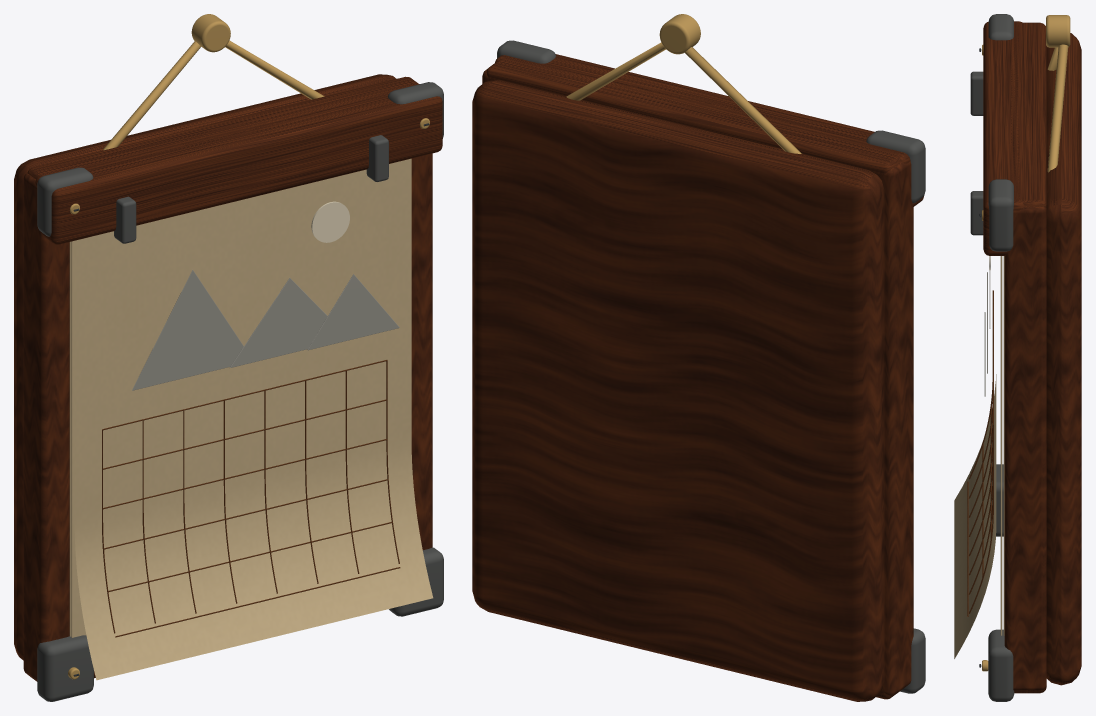
Rendered from aventura_calendario_parede.glb.
The picture shows the model from 3 angles, left to right: view 1: azimuth 30°, elevation 25°; view 2: azimuth 150°, elevation 25°; view 3: azimuth 270°, elevation 25°; orthographic projection. The views are drawn at different scales.
Parts seen in each view (by area): view 1: calendario_parede; view 2: calendario_parede; view 3: calendario_parede.
Boxes of the visible parts, x1,y1,x2,y2 form: calendario_parede: [14, 14, 443, 701]; calendario_parede: [472, 14, 925, 701]; calendario_parede: [954, 14, 1081, 701].
Bounding box in the file's own units: 0.275 × 0.4035 × 0.0785.
Materials: 8 (3 with a texture image).
